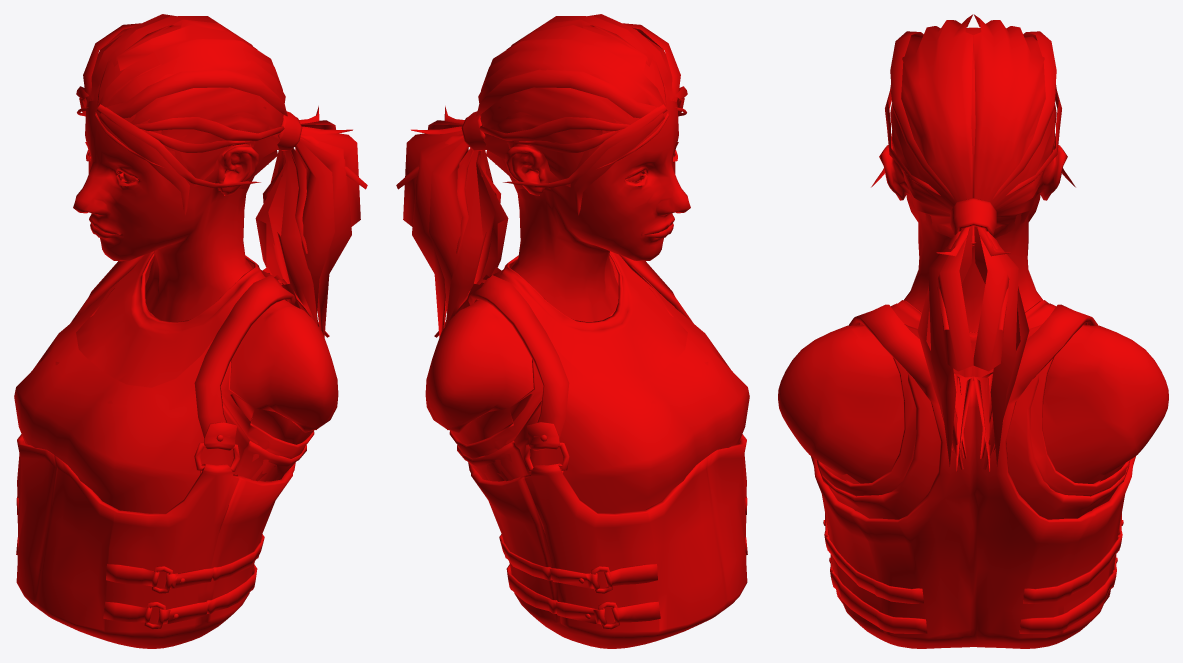
File: TorsoUpper.dae
The picture shows the model from 3 angles, left to right: view 1: azimuth 30°, elevation 25°; view 2: azimuth 150°, elevation 25°; view 3: azimuth 270°, elevation 25°; orthographic projection. The views are drawn at different scales.
Parts seen in each view (by area): view 1: Head; view 2: Head; view 3: Head.
Part boxes in pixels (x1,y1,x2,y2): Head: [14, 14, 367, 648]; Head: [396, 14, 749, 648]; Head: [778, 14, 1168, 648].
Size of the model in its own units: 0.355 by 0.349 by 0.6244.
